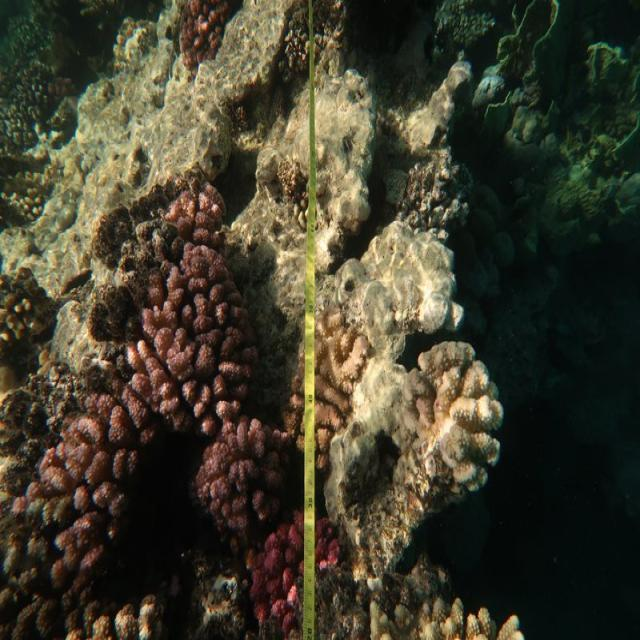Healthy Coral: (125, 180, 263, 433), (37, 424, 132, 574), (240, 510, 334, 624), (201, 438, 284, 540)
